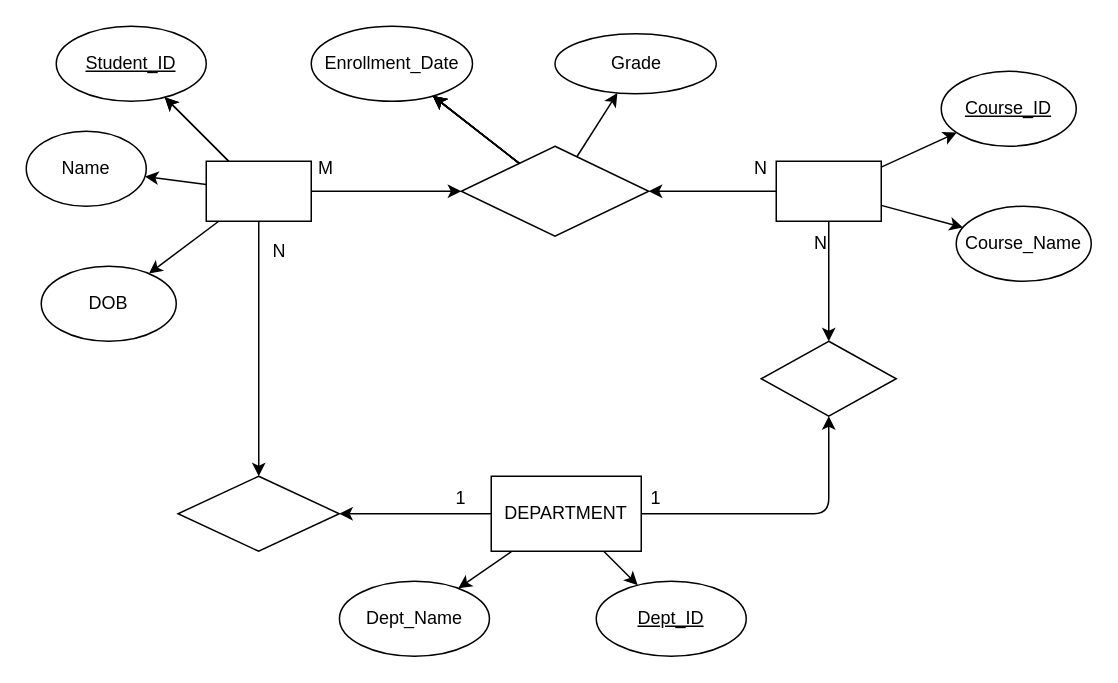
Some shapes in this 1118 by 683 pixel diagram are drawn without their labels. The shapes that lost their labels are listed below. From the top down, each one's centre as x and y in pixels, then its label:
At point (258, 190): "STUDENT".
At point (554, 190): "ENROLLS".
At point (828, 190): "COURSES".
At point (828, 378): "Offers".
At point (258, 513): "Have".
